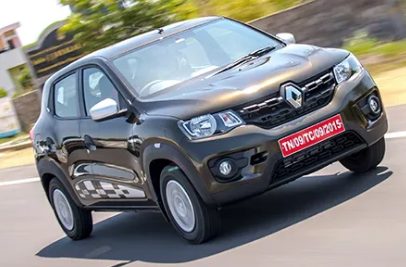car: (30, 14, 392, 246)
